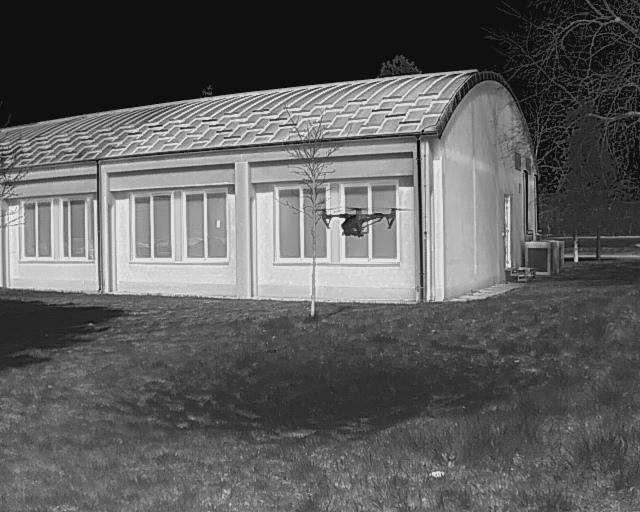drone: (307, 185, 415, 260)
